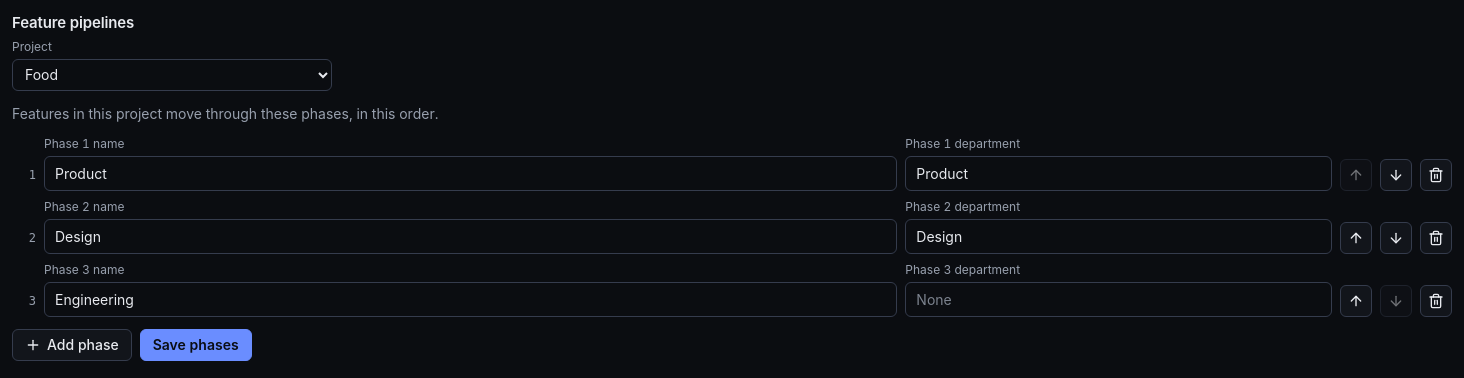
Scenario: PipelineSettings › shows the server message when a removal is refused
Click the button named "Remove Design": (1436, 238) x1=1420 y1=222 x2=1452 y2=254
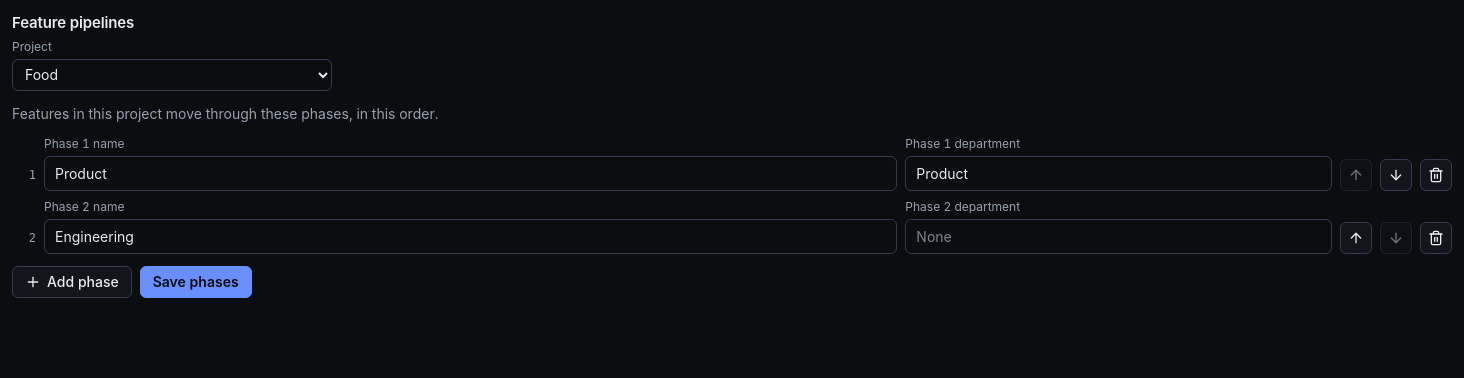
Click the button "Save phases": (196, 282) x1=140 y1=266 x2=252 y2=298
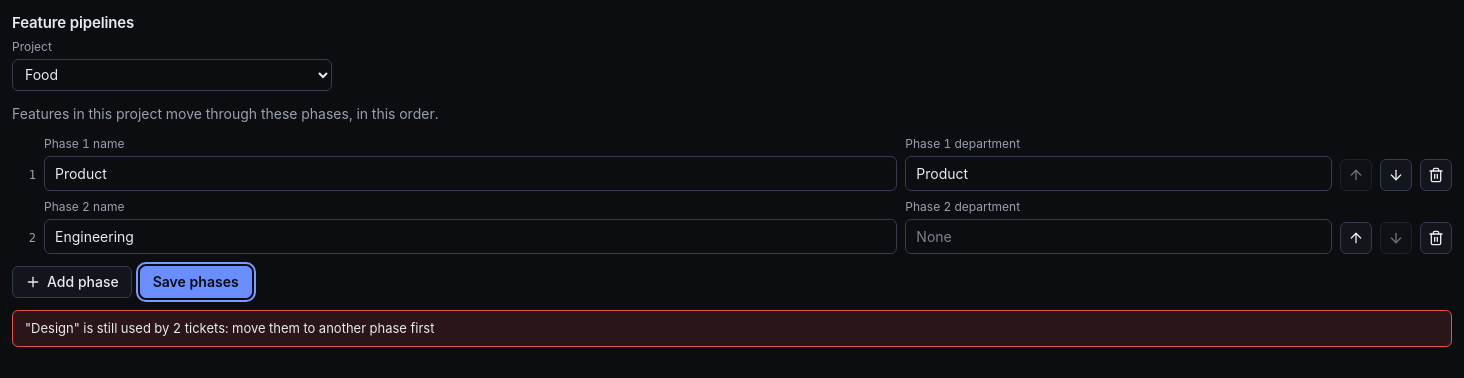
Check: the message shows "\"Design\" is still used by 2 tickets", box x1=25 y1=320 x2=434 y2=336
